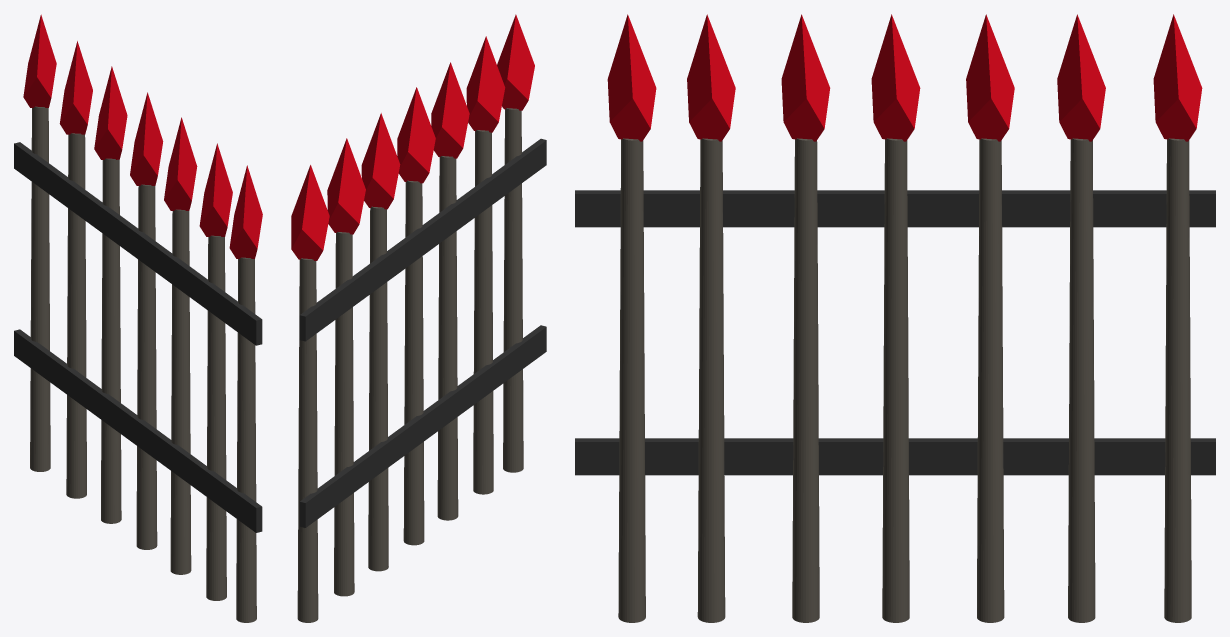
Rendered from Grating.fbx.
The picture shows the model from 3 angles, left to right: view 1: azimuth 30°, elevation 25°; view 2: azimuth 150°, elevation 25°; view 3: azimuth 270°, elevation 25°; orthographic projection. The views are drawn at different scales.
Parts seen in each view (by area): view 1: Cube.003; view 2: Cube.003; view 3: Cube.003.
Boxes of the visible parts, x1,y1,x2,y2 form: Cube.003: (14, 14, 262, 622); Cube.003: (291, 14, 546, 622); Cube.003: (575, 14, 1215, 622).
Size of the model in its own units: 27.39 by 363 by 350.
